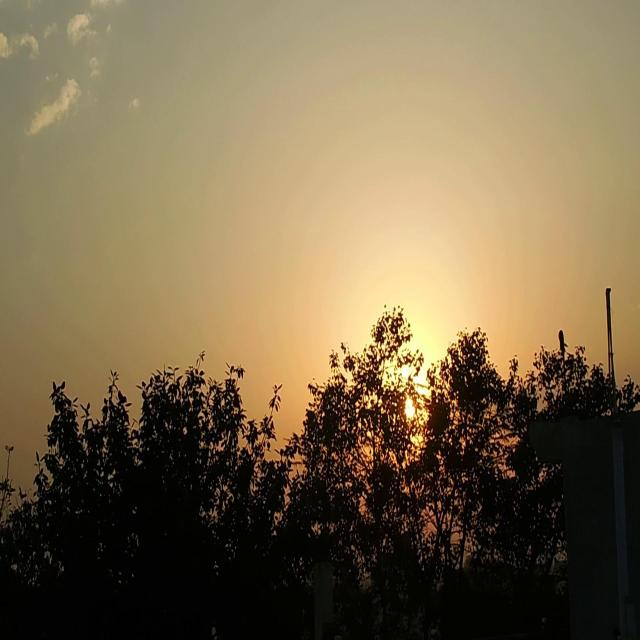other: (346, 285, 461, 450)
